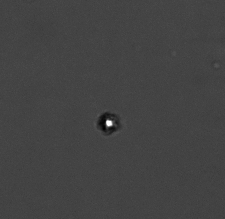Living Cell: (96, 111, 121, 135)
